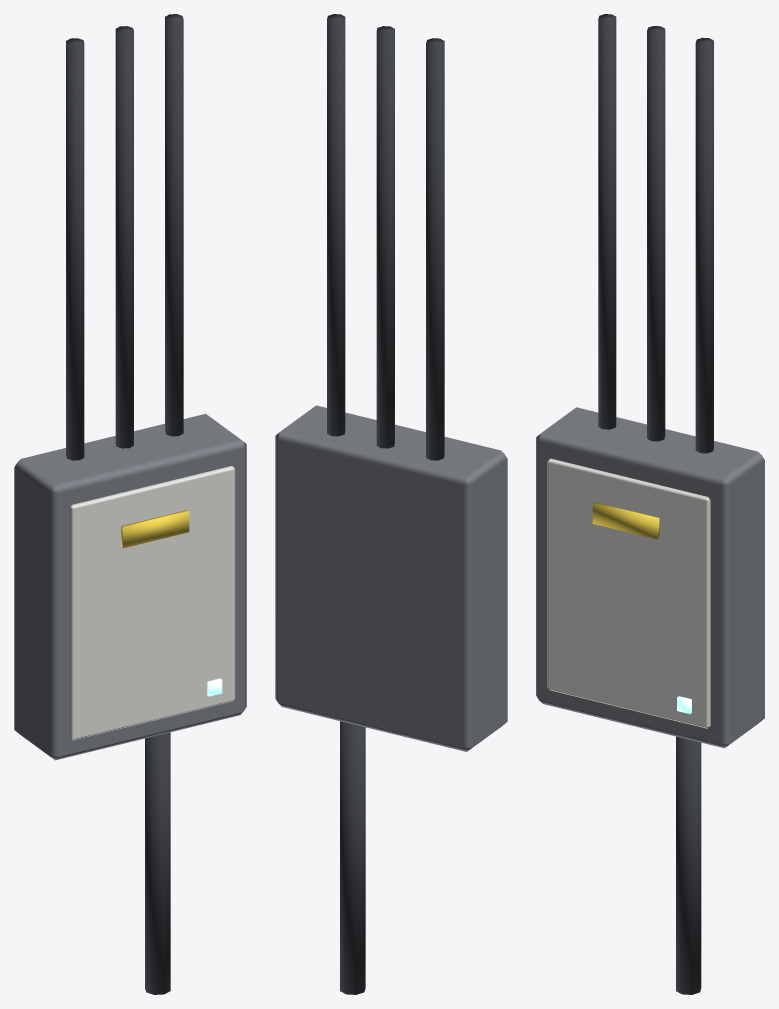
File: kit_junction_box.glb
The picture shows the model from 3 angles, left to right: view 1: azimuth 30°, elevation 25°; view 2: azimuth 150°, elevation 25°; view 3: azimuth 330°, elevation 25°; orthographic projection.
Visible parts, largest first — view 1: junction_box; view 2: junction_box; view 3: junction_box.
Part boxes in pixels (x1=…): junction_box: x1=14, y1=14, x2=246, y2=994; junction_box: x1=275, y1=14, x2=507, y2=994; junction_box: x1=536, y1=14, x2=764, y2=994.
Size of the model in its own units: 0.6 by 2.8 by 0.245.
